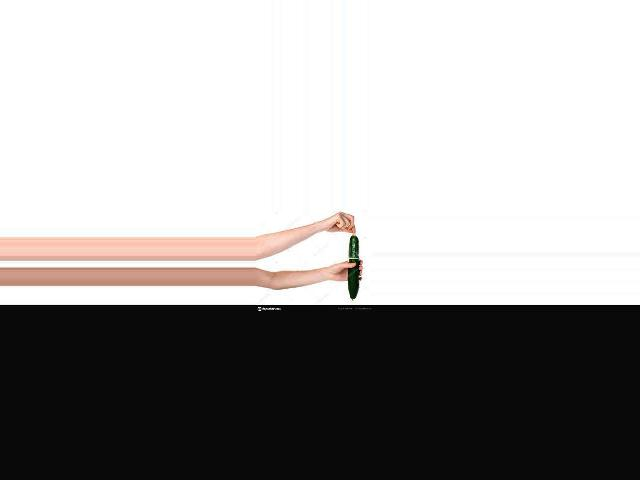cucumber: (349, 235, 359, 301)
